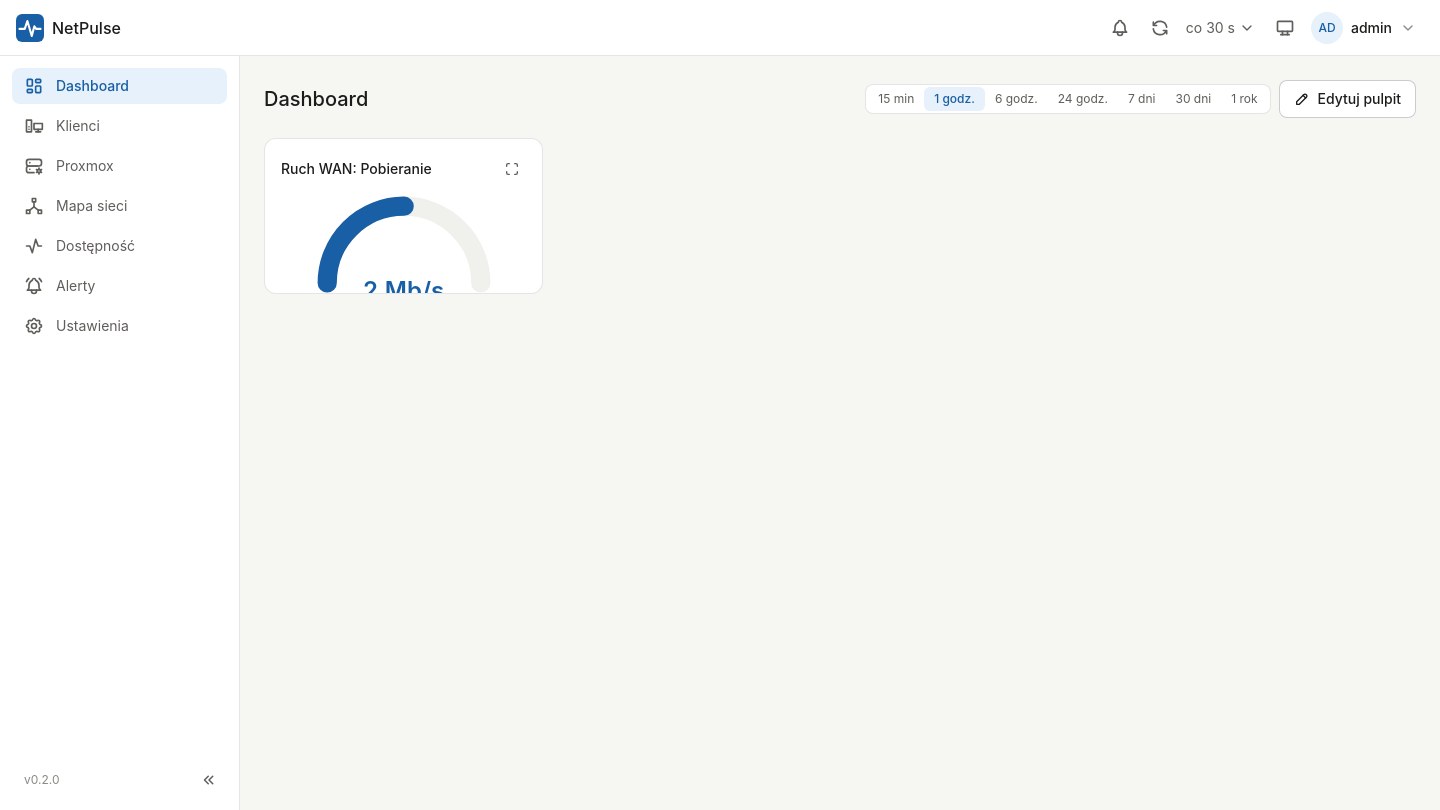
Scenario: panele na pulpicie › liczba jako wskaźnik ze zmianą względem poprzedniego okresu; pełny ekran
This screenshot has width=1440, height=810.
Click the button named "Pełny ekran". click: (512, 169)
box: [498, 155, 526, 183]
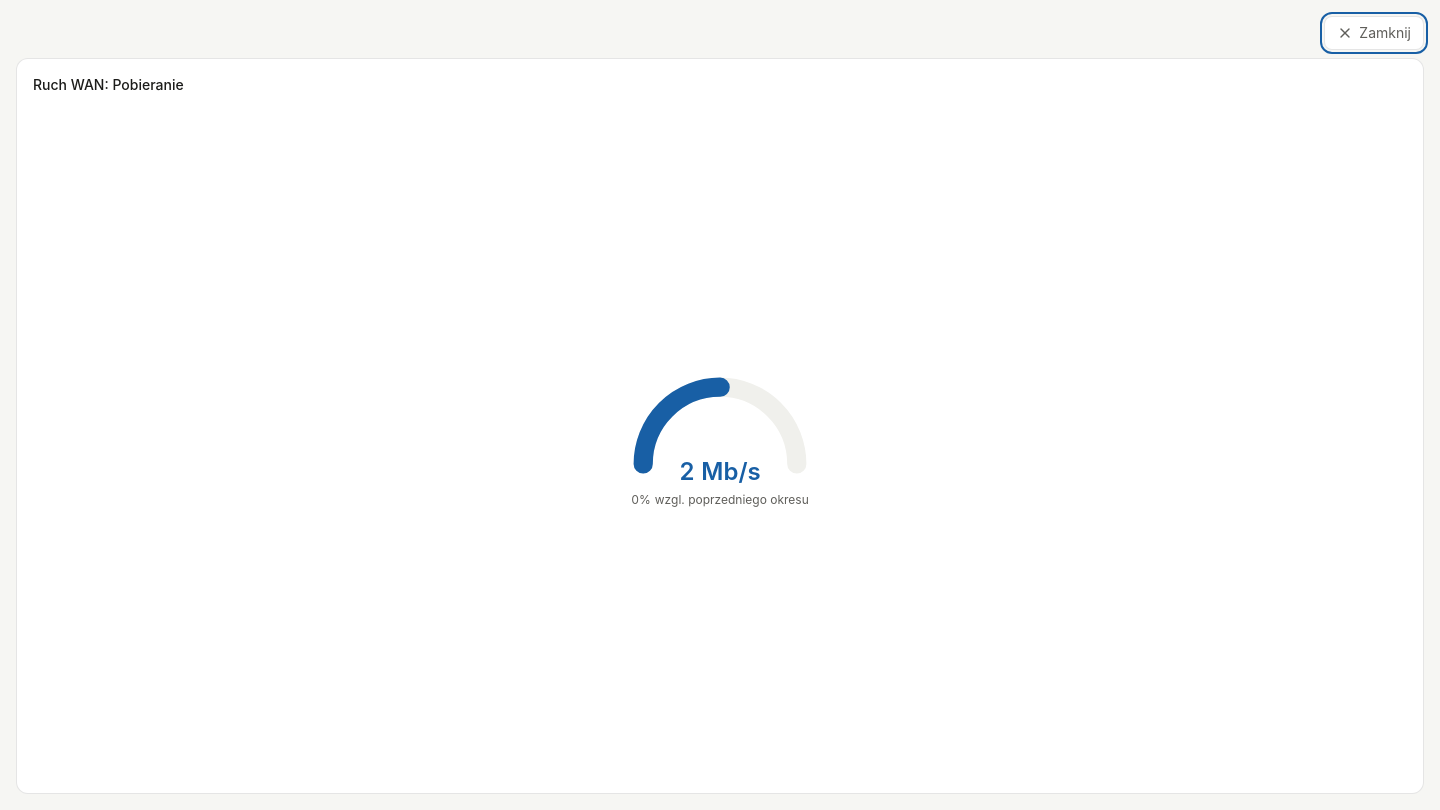
Check: the element showing "2 Mb/s 0% wzgl. poprzedniego okresu" is shown, box [624, 368, 816, 507]
Press Escape
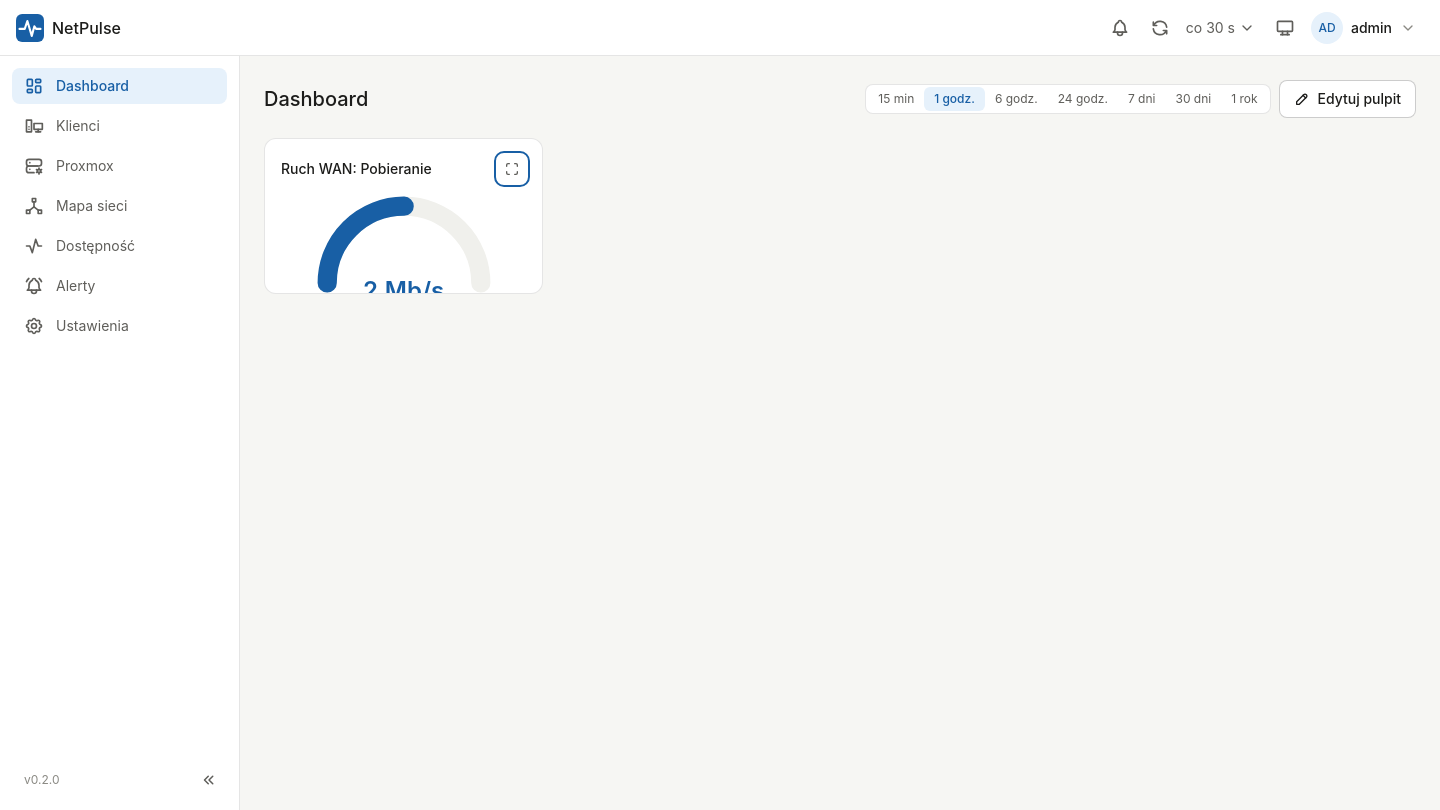
Check: the dialog is gone
